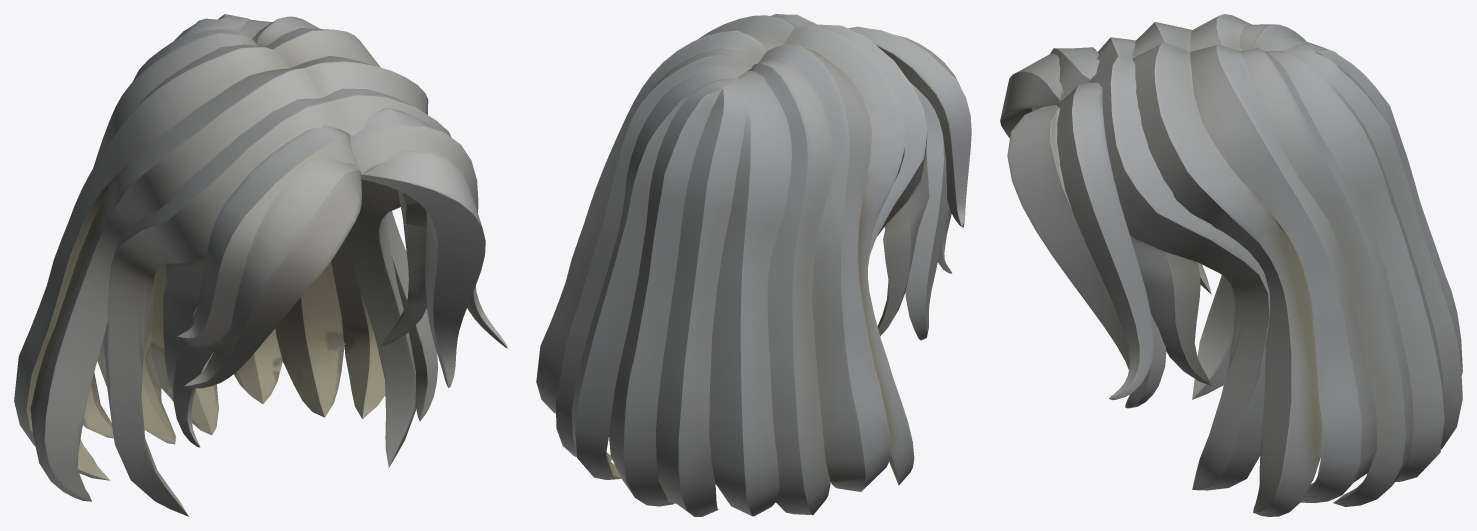
The model's file is Hair_Long.gltf.
3 views of the same model, side by side, from view 1: azimuth 30°, elevation 25°; view 2: azimuth 150°, elevation 25°; view 3: azimuth 270°, elevation 25° (orthographic). The views are drawn at different scales.
Parts seen in each view (by area): view 1: Hair_Long; view 2: Hair_Long; view 3: Hair_Long.
Part boxes in pixels (x1,y1,x2,y2): Hair_Long: [14, 14, 507, 516]; Hair_Long: [536, 14, 971, 516]; Hair_Long: [1000, 14, 1462, 516].
Bounding box in the file's own units: 0.2447 × 0.2764 × 0.2704.
Materials: 1 (1 with a texture image).
